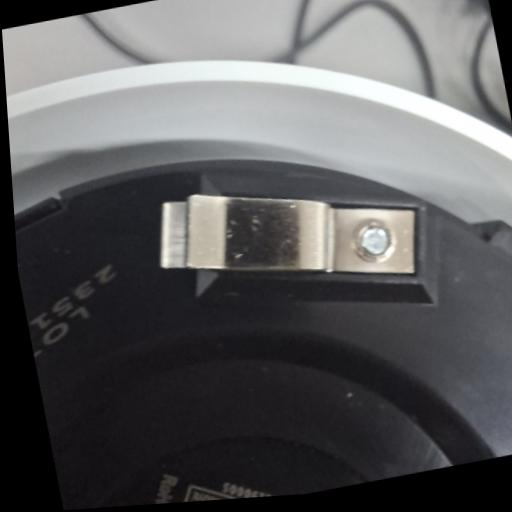yayli: (147, 150, 435, 323)
